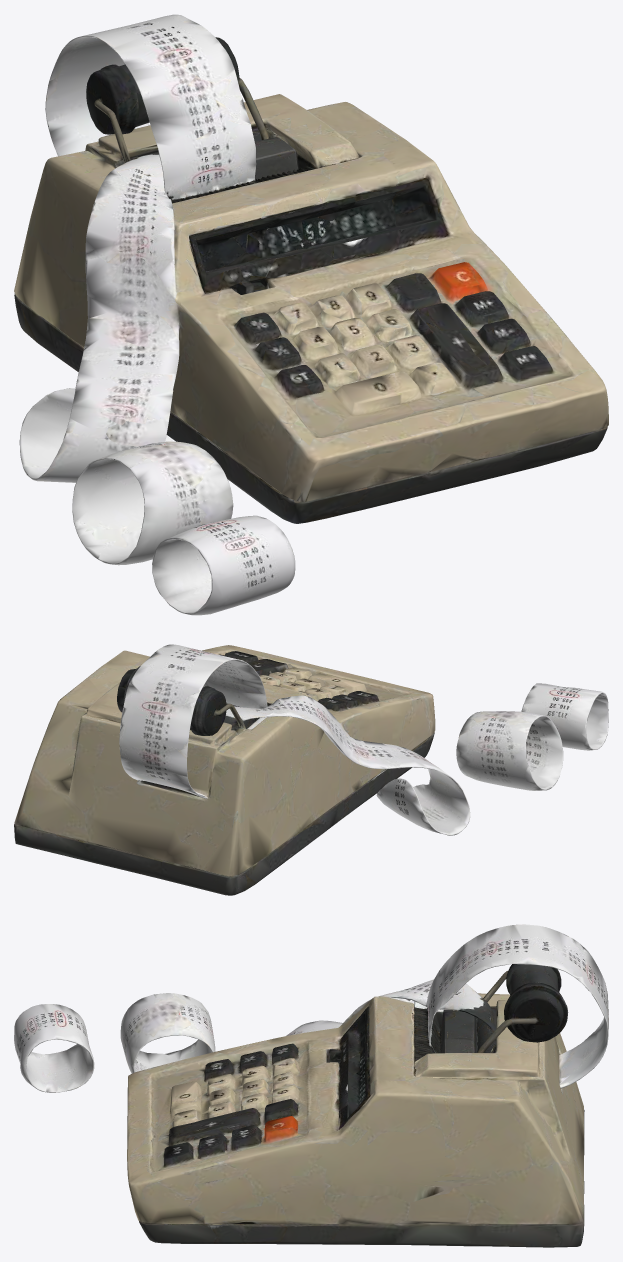
File: adder.glb
3 views of the same model, one above another, from view 1: azimuth 30°, elevation 25°; view 2: azimuth 150°, elevation 25°; view 3: azimuth 270°, elevation 25° (orthographic). The views are drawn at different scales.
Size of the model in its own units: 1.44 by 0.8017 by 1.9.
Materials: 1 (1 with a texture image).
